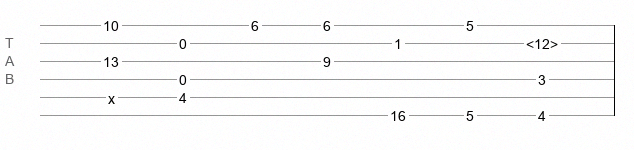0: (179, 36, 187, 46), (179, 72, 187, 82)
1: (394, 36, 402, 46)
10: (103, 18, 119, 28)
13: (103, 54, 119, 64)
16: (390, 108, 406, 118)
3: (538, 72, 546, 82)
4: (179, 90, 187, 100), (538, 108, 546, 118)
5: (466, 108, 474, 118), (466, 18, 474, 28)
6: (251, 18, 259, 28), (323, 18, 331, 28)
9: (323, 54, 331, 64)
harmonic: (526, 36, 558, 46)
x: (108, 91, 115, 99)
